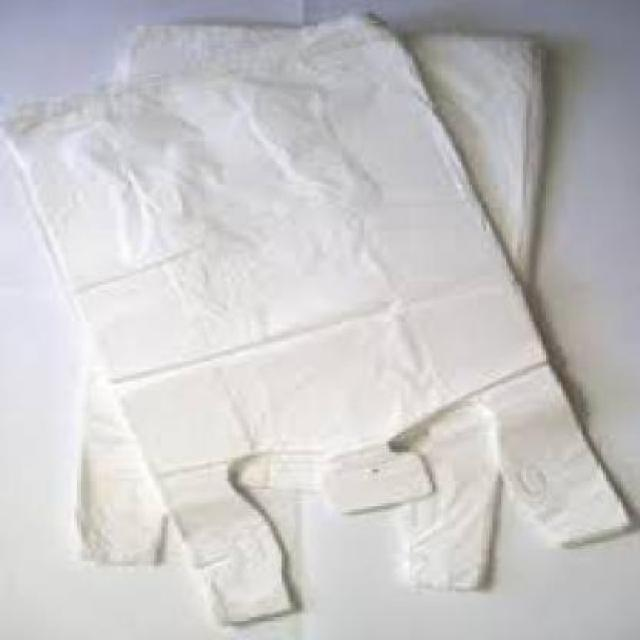PLASTIC: (4, 12, 631, 627), (65, 22, 548, 594)
